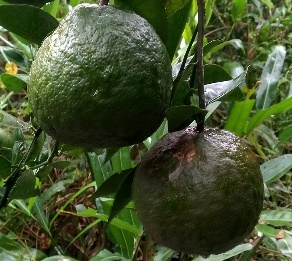Cam: (24, 2, 173, 153), (134, 122, 267, 249)
